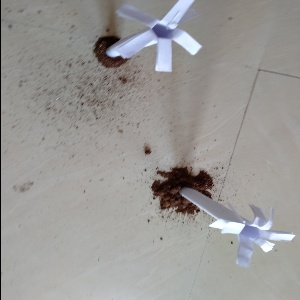weed: (181, 180, 281, 270), (108, 1, 203, 86)
